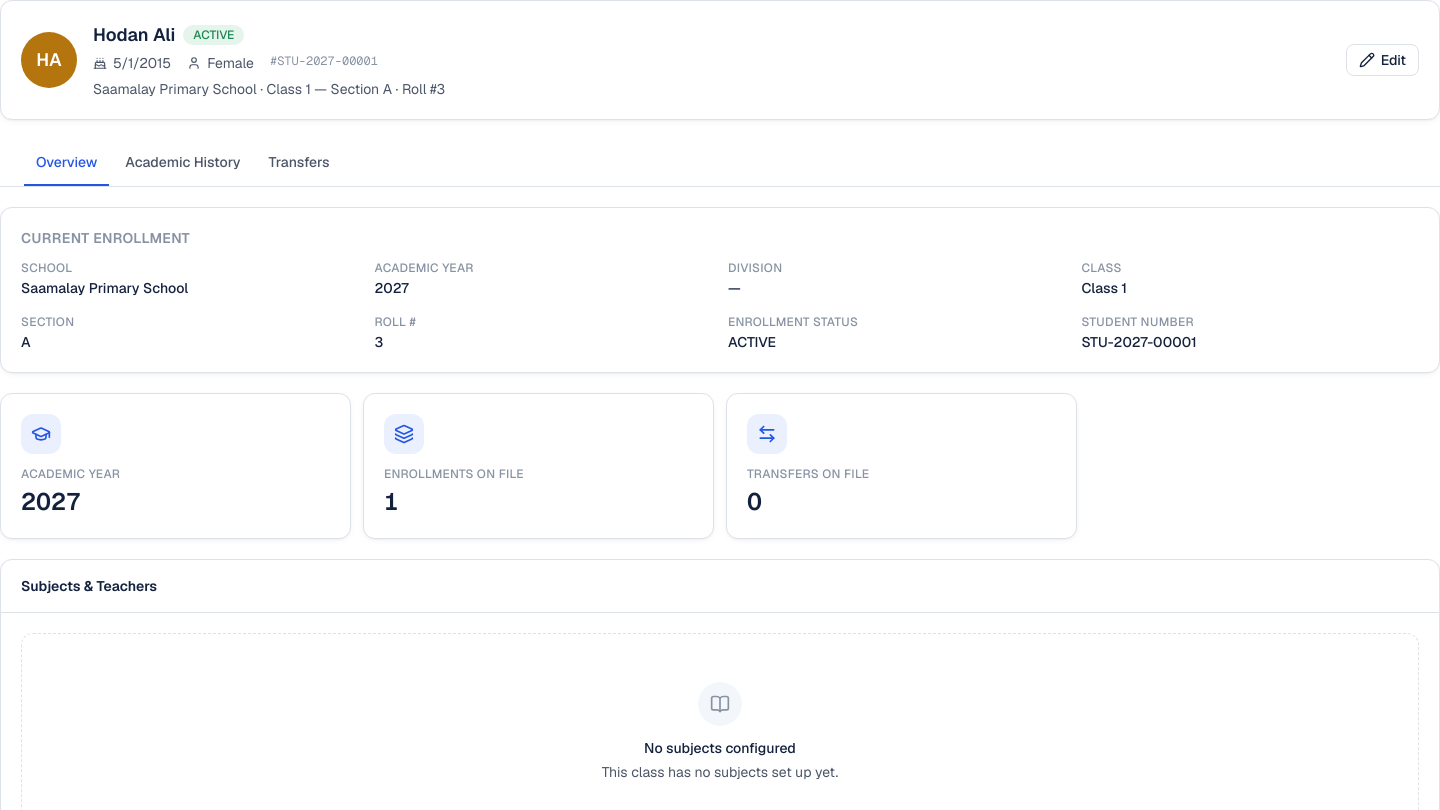
Test case: StudentProfile — RBAC on Edit/Delete › opens the edit form when Edit is clicked
Click the button "Edit".
click(1382, 60)  # box x1=1346 y1=44 x2=1419 y2=76
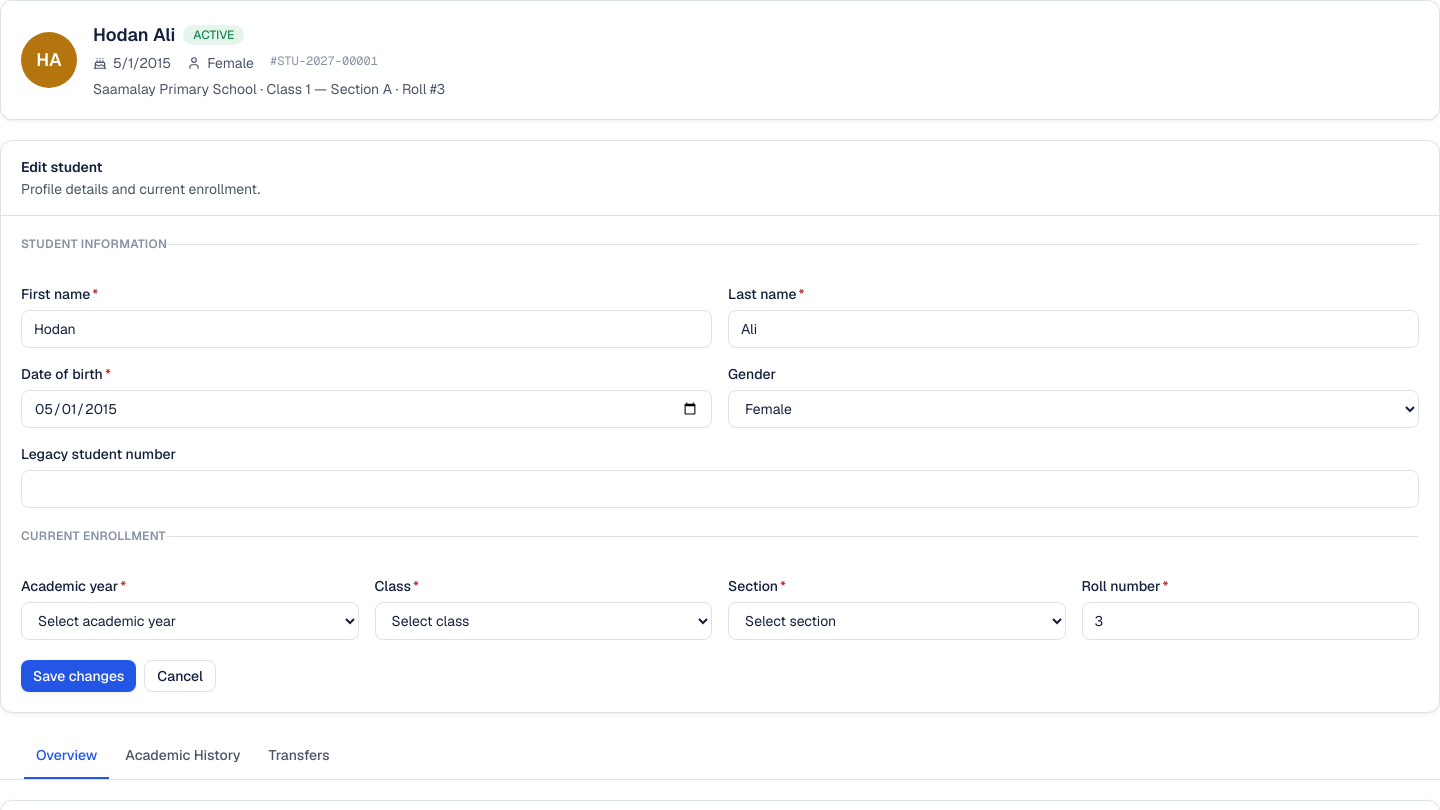
Now the heading "Edit student" is shown, box x1=21 y1=158 x2=102 y2=176
